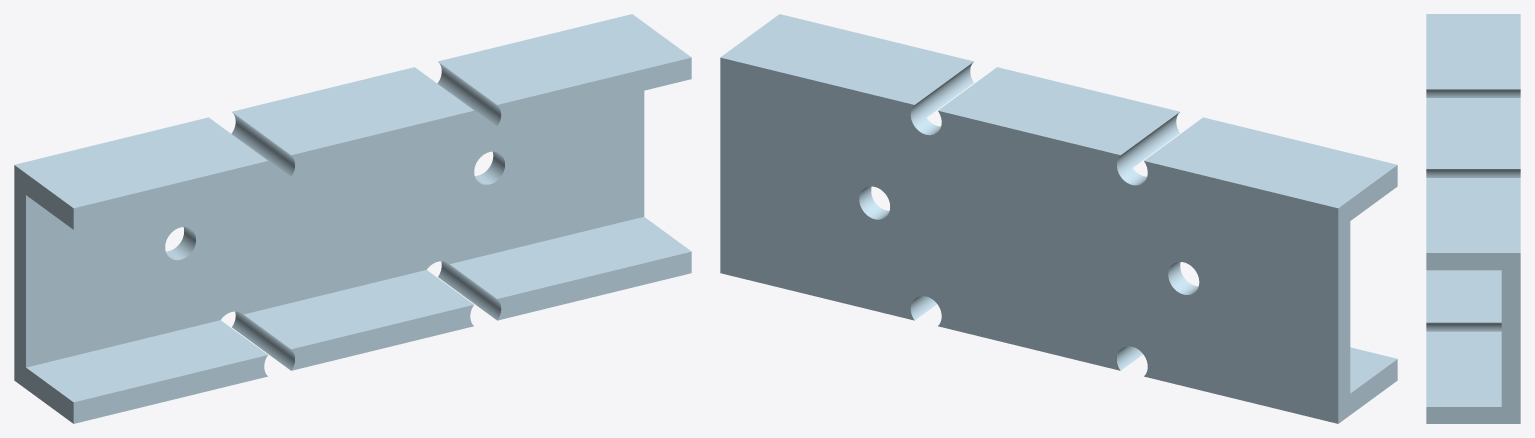
The picture shows the model from 3 angles, left to right: view 1: azimuth 30°, elevation 25°; view 2: azimuth 150°, elevation 25°; view 3: azimuth 270°, elevation 25°; orthographic projection. The views are drawn at different scales.
Parts seen in each view (by area): view 1: Part 1; view 2: Part 1; view 3: Part 1.
Part boxes in pixels (x1,y1,x2,y2): Part 1: (14,14,691,423); Part 1: (720,14,1397,423); Part 1: (1426,14,1520,423).
Bounding box in the file's own units: 0.12 × 0.04 × 0.02.
